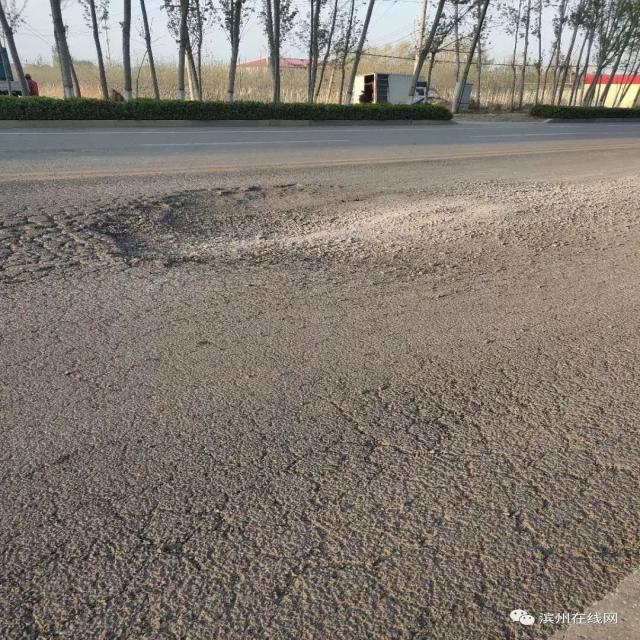pothole: (87, 191, 527, 272)
